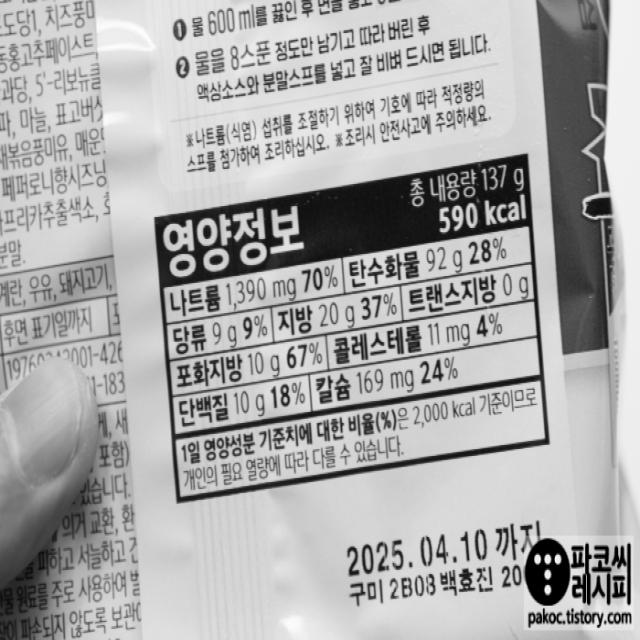Nutrition Label: (141, 147, 563, 514)
